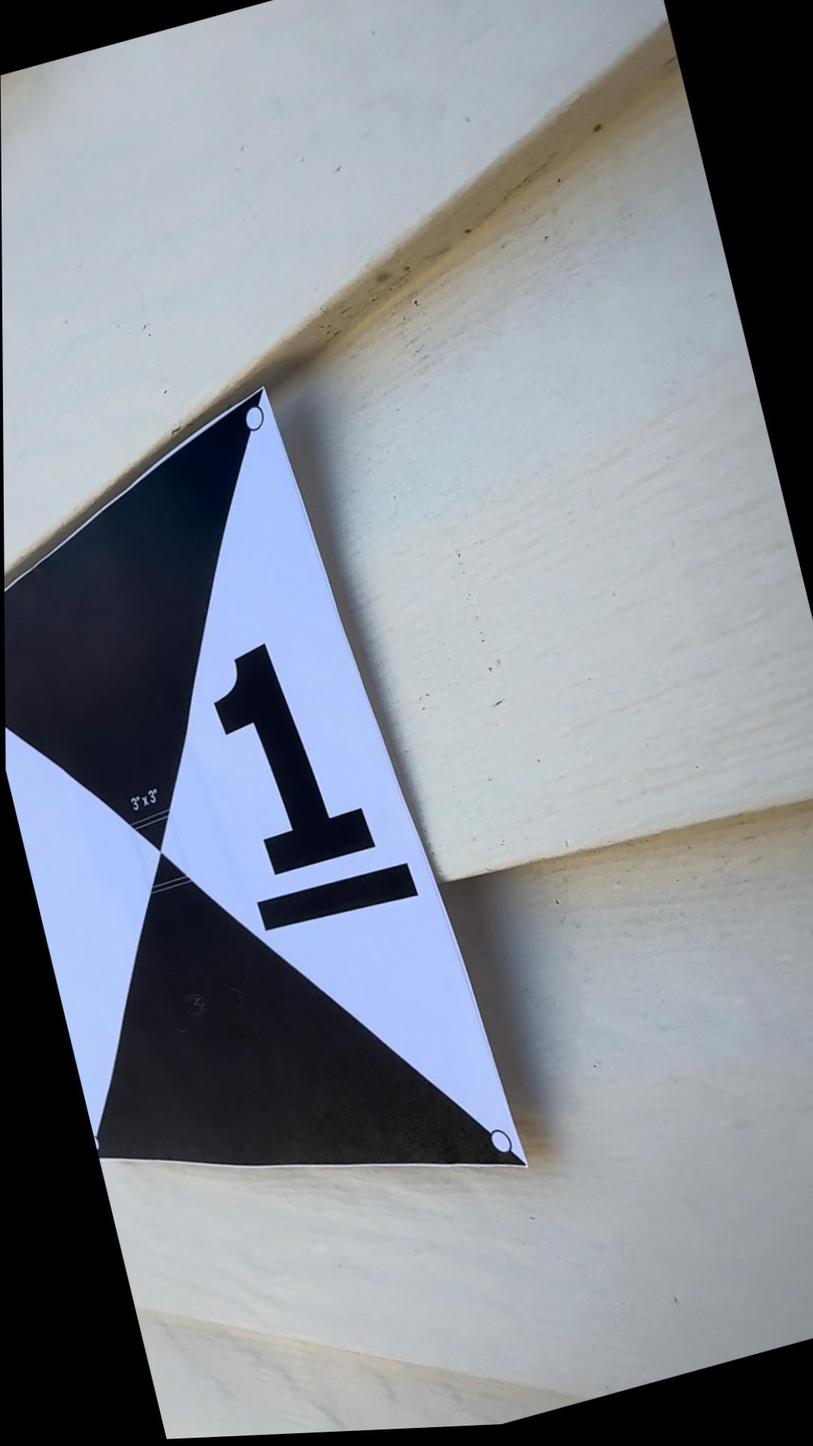target1: (4, 361, 551, 1180)
